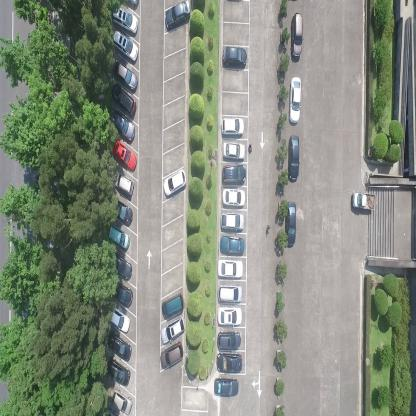car: (108, 107, 135, 143), (110, 81, 136, 118), (111, 135, 137, 172), (112, 57, 138, 91), (104, 353, 130, 386), (162, 0, 190, 30), (111, 30, 139, 60), (106, 330, 132, 362), (112, 4, 138, 34), (109, 168, 135, 197), (160, 315, 185, 345), (160, 339, 184, 369), (164, 168, 188, 198), (288, 75, 302, 126), (290, 11, 303, 63), (111, 250, 132, 282), (110, 280, 134, 308), (111, 197, 133, 227), (161, 291, 184, 319), (108, 306, 131, 334), (284, 199, 296, 249), (221, 45, 247, 68), (107, 224, 130, 250), (287, 134, 299, 183), (216, 258, 244, 279), (351, 190, 375, 214), (110, 388, 133, 413), (217, 353, 243, 374), (220, 235, 245, 256), (217, 306, 243, 326), (215, 332, 242, 351), (220, 117, 244, 138), (222, 164, 246, 185), (220, 211, 245, 230), (217, 284, 243, 302), (214, 378, 240, 396), (223, 188, 246, 207), (222, 142, 246, 160)
